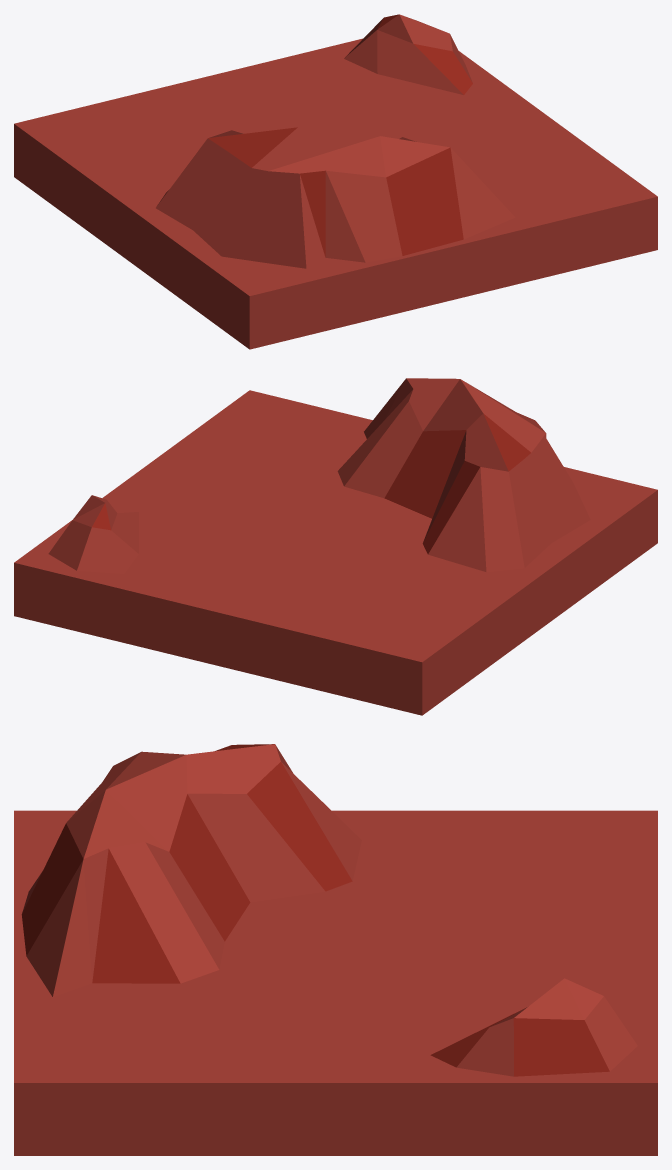
File: Field_6.fbx
The picture shows the model from 3 angles, top to bottom: view 1: azimuth 30°, elevation 25°; view 2: azimuth 150°, elevation 25°; view 3: azimuth 270°, elevation 25°; orthographic projection. The views are drawn at different scales.
Parts seen in each view (by area): view 1: Plane.002; view 2: Plane.002; view 3: Plane.002.
Boxes of the visible parts, left/top/right/bottom form: Plane.002: left=14, top=14, right=657, bottom=349; Plane.002: left=14, top=378, right=657, bottom=715; Plane.002: left=14, top=744, right=657, bottom=1155.
Size of the model in its own units: 400 by 139 by 400.
